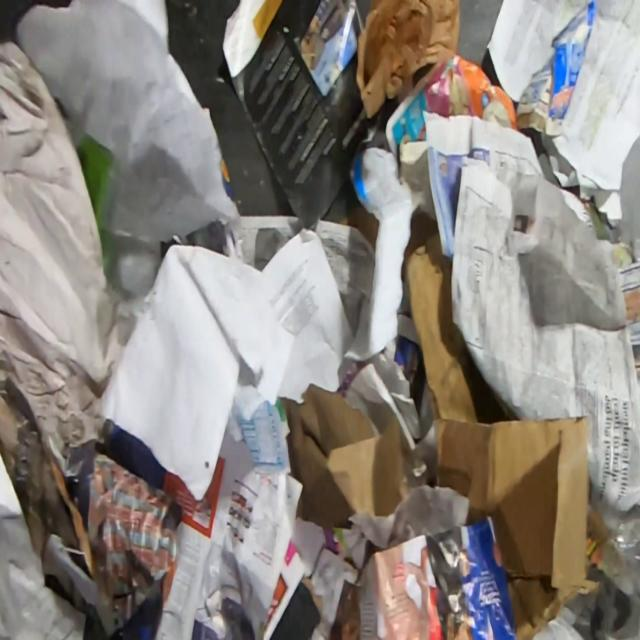cardboard: (402, 210, 603, 640), (220, 0, 399, 230), (276, 381, 411, 531), (341, 148, 411, 361), (516, 0, 597, 137), (457, 55, 519, 132), (338, 201, 378, 253)
soft_plastic: (600, 504, 640, 596)
